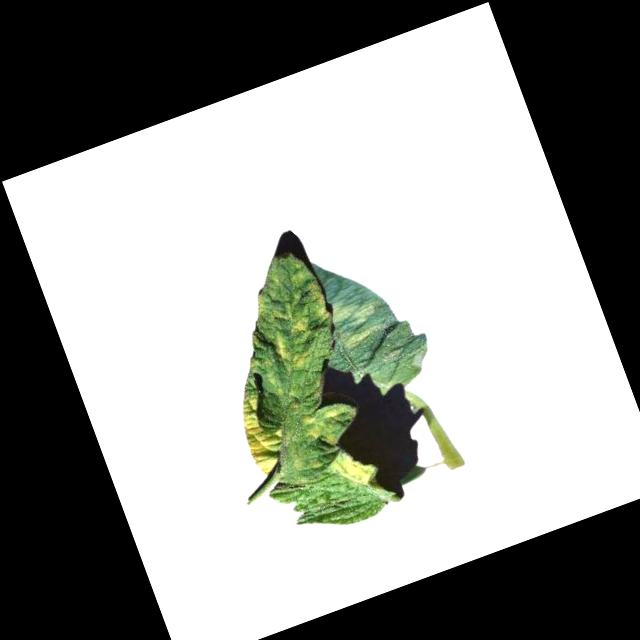Leaf_Mold: (225, 376, 292, 480), (326, 289, 392, 351), (266, 315, 324, 376), (296, 402, 351, 453), (329, 444, 378, 492)
